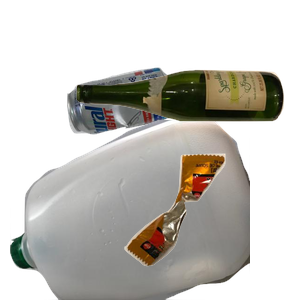glass: (74, 67, 300, 181)
metal: (65, 65, 231, 192)
plastic: (10, 120, 250, 300)
trash: (122, 151, 300, 300)
